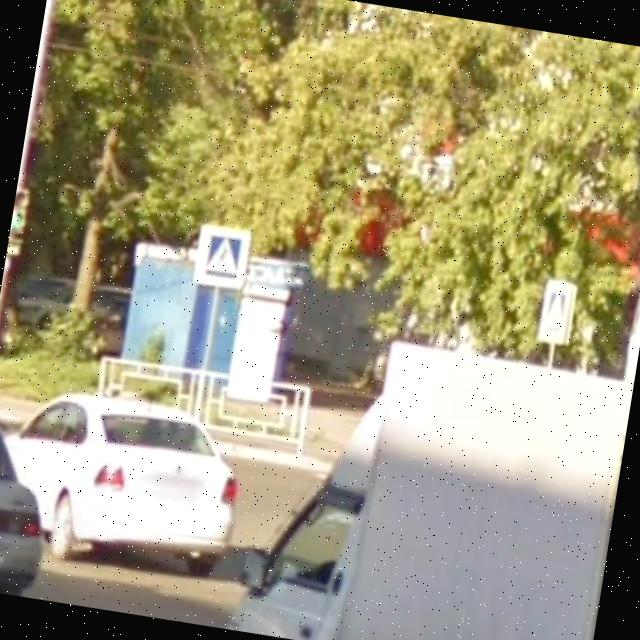Przejscie dla pieszych: (190, 222, 254, 294)
